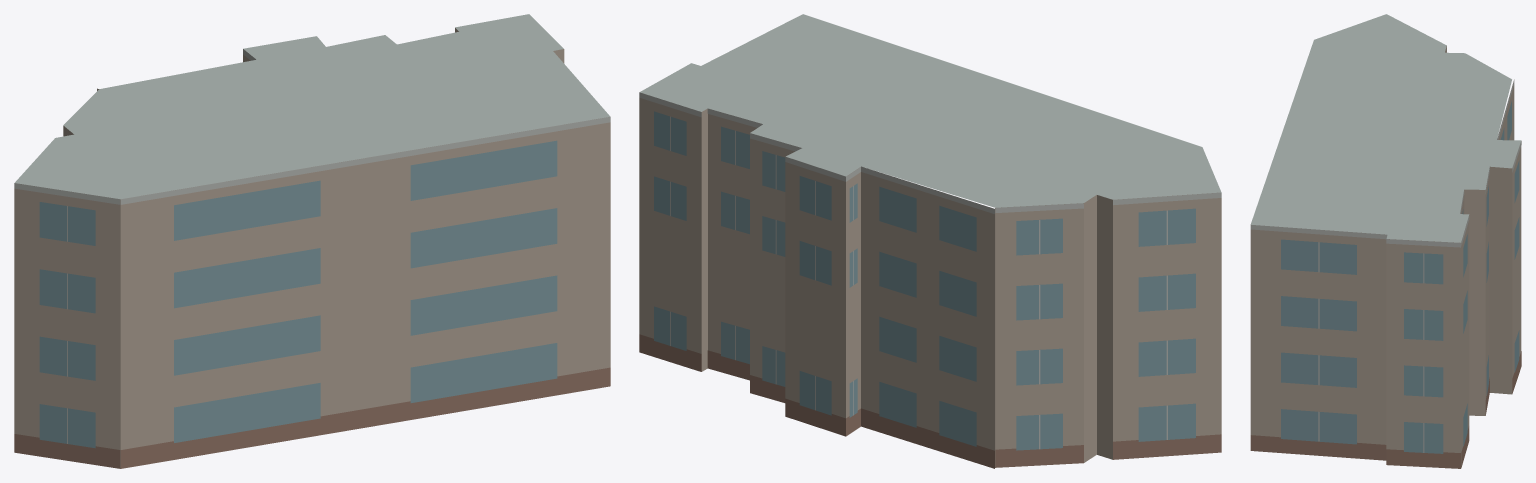
Rendered from survey-upis-32615917.glb.
The picture shows the model from 3 angles, left to right: view 1: azimuth 30°, elevation 25°; view 2: azimuth 150°, elevation 25°; view 3: azimuth 270°, elevation 25°; orthographic projection. The views are drawn at different scales.
Visible parts, largest first — view 1: survey-upis-32615917.tmp; view 2: survey-upis-32615917.tmp; view 3: survey-upis-32615917.tmp.
Part boxes in pixels (box(x1,y1,x2,y2)): survey-upis-32615917.tmp: box(14, 14, 610, 468); survey-upis-32615917.tmp: box(639, 14, 1221, 468); survey-upis-32615917.tmp: box(1250, 14, 1521, 468).
Size of the model in its own units: 25.41 by 11.7 by 12.72.
